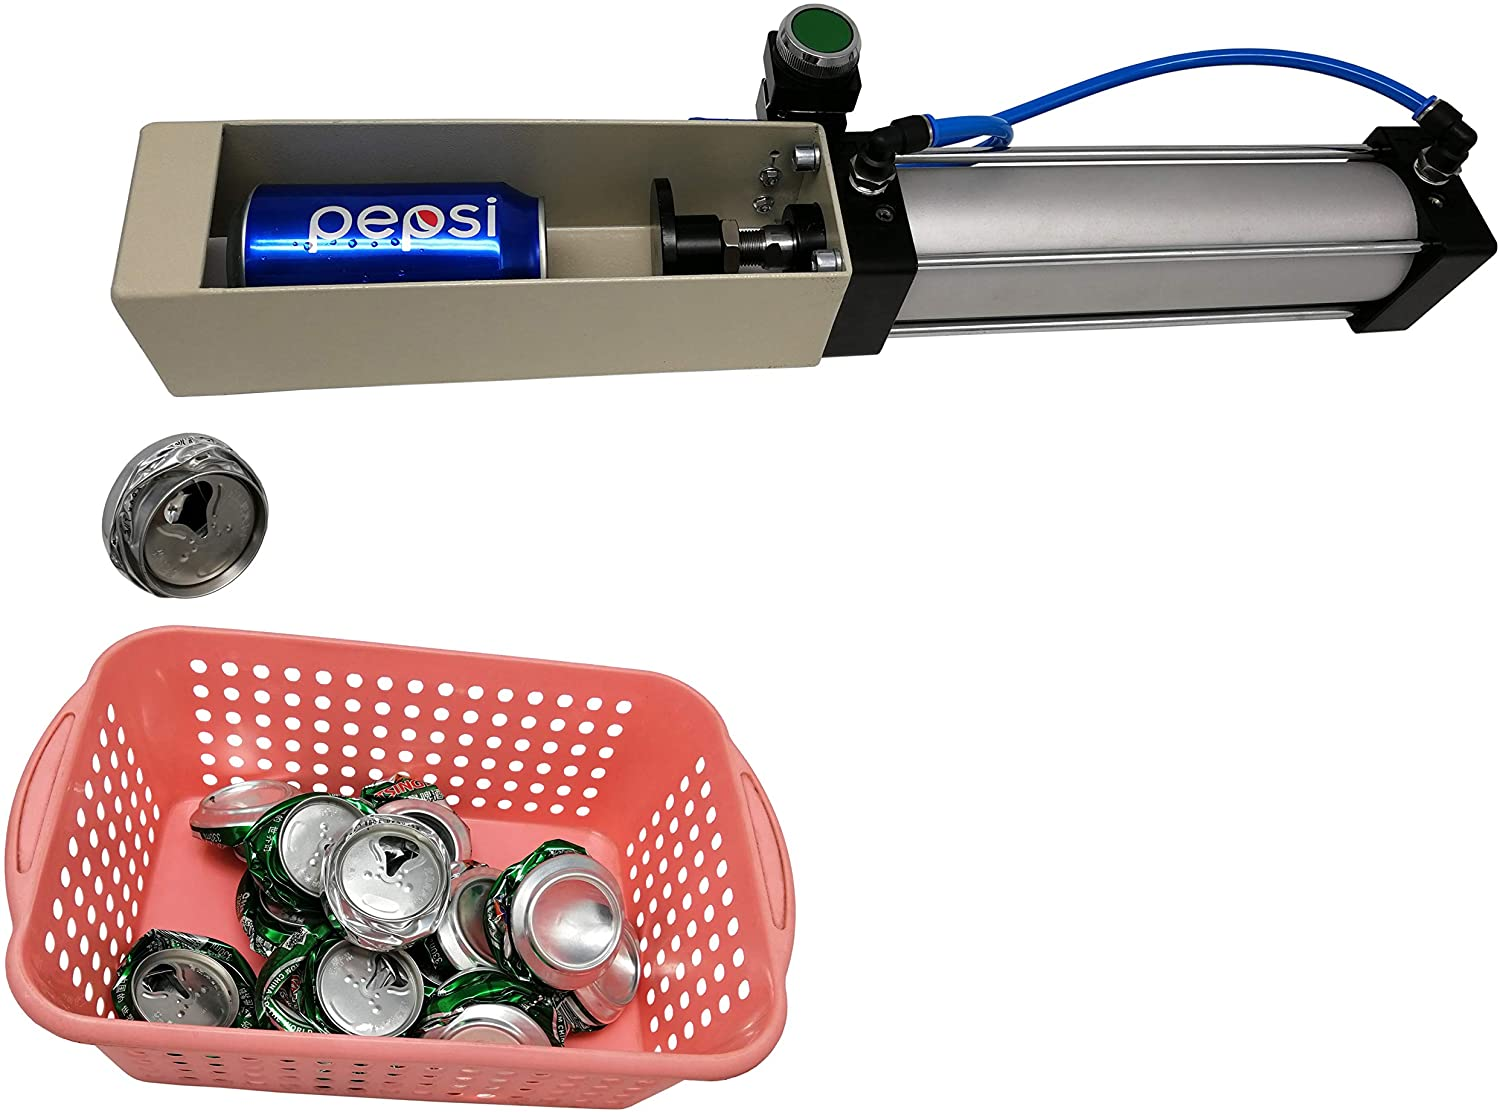can: (232, 176, 564, 296), (93, 429, 272, 605), (482, 838, 629, 999), (257, 925, 425, 1062), (235, 788, 364, 957), (110, 924, 263, 1065), (315, 809, 451, 959), (418, 958, 563, 1070), (436, 853, 549, 982), (547, 896, 643, 1044), (357, 766, 486, 867), (188, 774, 303, 860)
